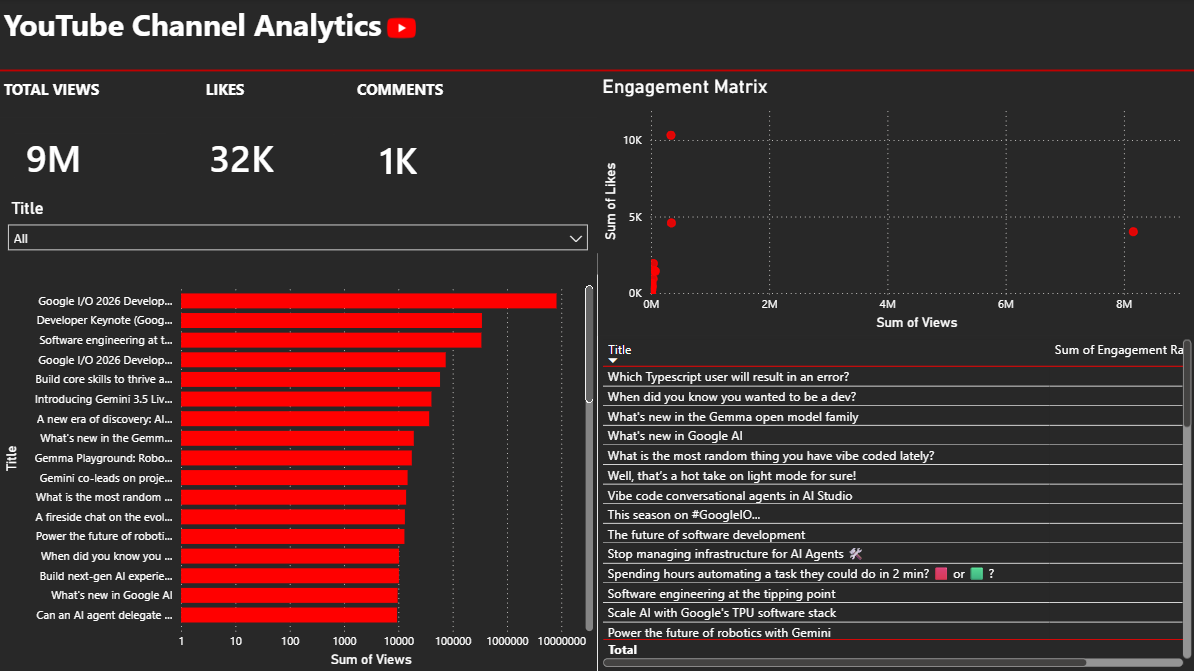

Layout of this report page (visuals, bound fields, positions):
{"tool":"powerbi","page":{"name":"Page 1","canvas":[1280,720],"ordinal":0},"visuals":[{"type":"cardVisual","fields":{"Data":["Sum(public youtube_video_stats.Views)"]},"box":[0,127.2,196.2,81.2],"z":0},{"type":"cardVisual","fields":{"Data":["Sum(public youtube_video_stats.Likes)"]},"box":[196.3,127.3,181.7,80.9],"z":1000},{"type":"cardVisual","fields":{"Data":["Sum(public youtube_video_stats.Comments)"]},"box":[378,128.7,262.6,80.9],"z":2000},{"type":"textbox","box":[253.1,0.2,12.2,12.2],"z":3000},{"type":"clusteredBarChart","title":"Views by Video","fields":{"Category":["public youtube_video_stats.Title"],"Y":["Sum(public youtube_video_stats.Views)"]},"box":[0,271.9,640.7,448.3],"z":4000},{"type":"scatterChart","title":"Engagement Matrix","fields":{"Category":["public youtube_video_stats.Title"],"X":["Sum(public youtube_video_stats.Views)"],"Y":["Sum(public youtube_video_stats.Likes)"]},"box":[640,81.2,640,278.7],"z":5000},{"type":"tableEx","fields":{"Values":["public youtube_video_stats.Title","Sum(public youtube_video_stats.Engagement Rate %)","Sum(public youtube_video_stats.Views)"]},"box":[640,359.9,640,359.9],"z":6000},{"type":"textbox","box":[377.5,81.2,262.5,46],"z":7000},{"type":"textbox","box":[216.5,81.2,161,46],"z":8000},{"type":"textbox","box":[0,81.2,216.5,46],"z":9000},{"type":"slicer","fields":{"Values":["public youtube_video_stats.Title"]},"box":[0,208.4,640,86.6],"z":10000},{"type":"textbox","box":[0,0,1280,81.2],"z":11000},{"type":"shape","box":[0,0,1280,152.9],"z":12000},{"type":"image","box":[365.3,0,131.2,62.2],"z":13000}]}

Visuals, with their boxes in screenshot pixels (x1, y1, x2, y2), scaled from the page's 1280x720 canvas onto the 1194x671 screenshot:
cardVisual - Sum(public youtube_video_stats.Views): <box>0,119,183,194</box>
cardVisual - Sum(public youtube_video_stats.Likes): <box>183,119,353,194</box>
cardVisual - Sum(public youtube_video_stats.Comments): <box>353,120,598,195</box>
textbox: <box>236,0,247,12</box>
"Views by Video" clusteredBarChart: <box>0,253,598,670</box>
"Engagement Matrix" scatterChart: <box>597,76,1193,335</box>
tableEx - public youtube_video_stats.Title x Sum(public youtube_video_stats.Engagement Rate %): <box>597,335,1193,670</box>
textbox: <box>352,76,597,119</box>
textbox: <box>202,76,352,119</box>
textbox: <box>0,76,202,119</box>
slicer - public youtube_video_stats.Title: <box>0,194,597,275</box>
textbox: <box>0,0,1193,76</box>
shape: <box>0,0,1193,142</box>
image: <box>341,0,463,58</box>
